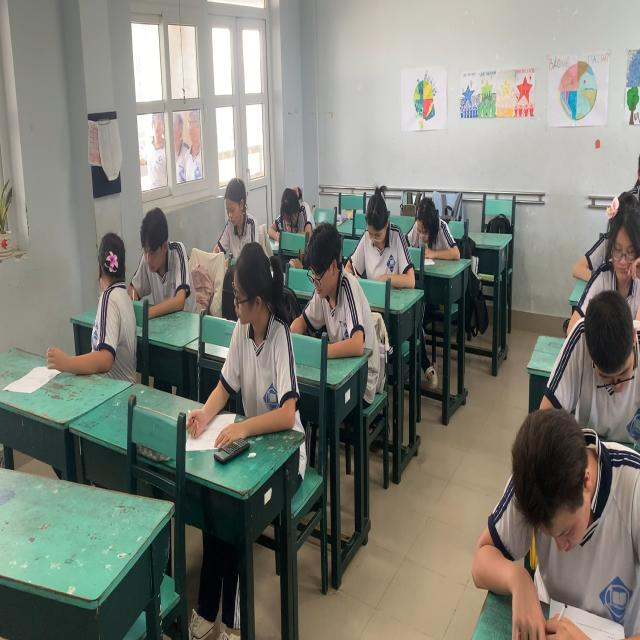cheating: (229, 240, 289, 427), (93, 233, 130, 358)
not_cheating: (482, 423, 627, 620), (556, 291, 637, 409), (301, 219, 359, 337), (357, 184, 398, 270), (594, 209, 640, 285), (137, 210, 176, 292), (219, 178, 256, 240), (276, 174, 310, 226), (413, 188, 437, 256)
